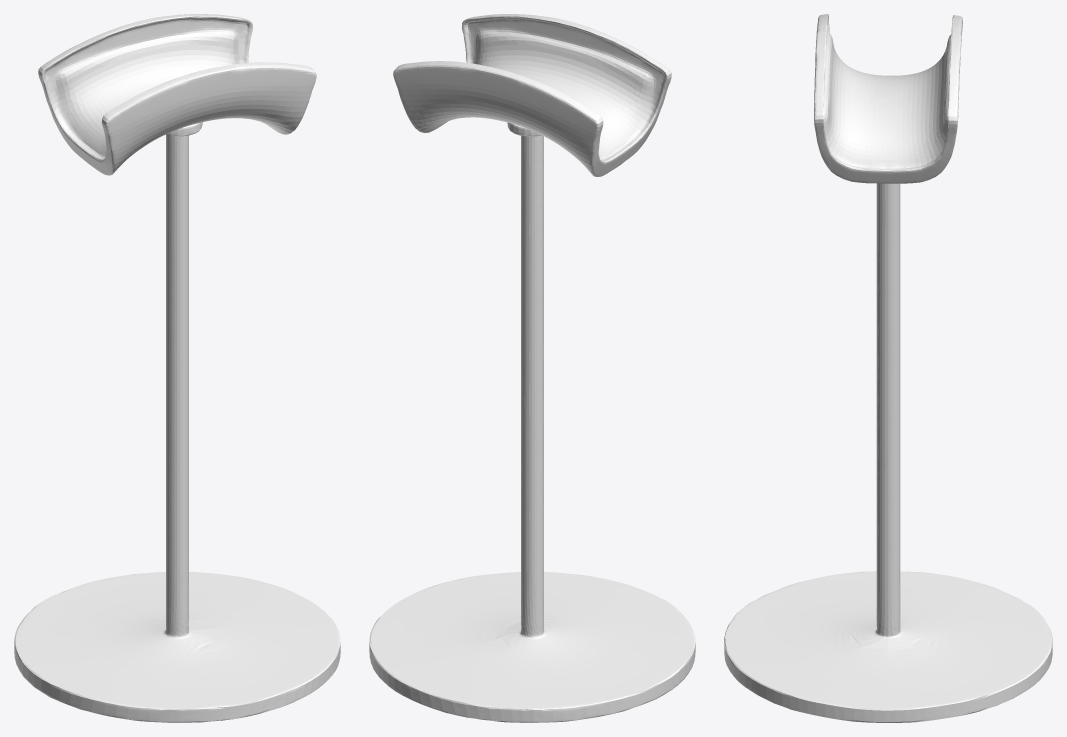
The model's file is AirPods Max stand.glb.
The picture shows the model from 3 angles, left to right: view 1: azimuth 30°, elevation 25°; view 2: azimuth 150°, elevation 25°; view 3: azimuth 270°, elevation 25°; orthographic projection.
Parts seen in each view (by area): view 1: model; view 2: model; view 3: model.
Boxes of the visible parts, <box> form: model: <box>14,14,340,722</box>; model: <box>369,14,695,722</box>; model: <box>724,14,1052,722</box>.
Size of the model in its own units: 0.4291 by 0.9032 by 0.43.
1 material, 1 textured.
